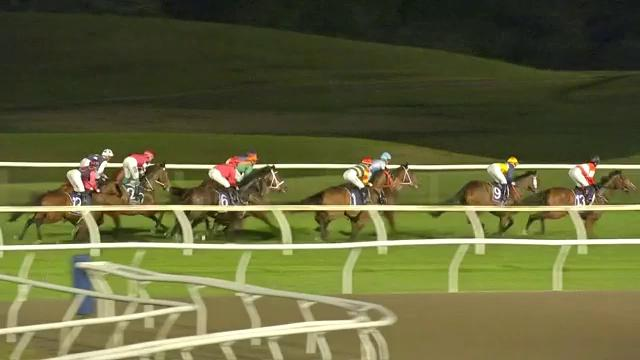racing-horse: (435, 147, 555, 263), (23, 158, 135, 275), (534, 148, 640, 255), (300, 145, 398, 253), (176, 154, 268, 261), (351, 133, 427, 255), (221, 137, 299, 234), (112, 130, 172, 253), (63, 130, 119, 200)
